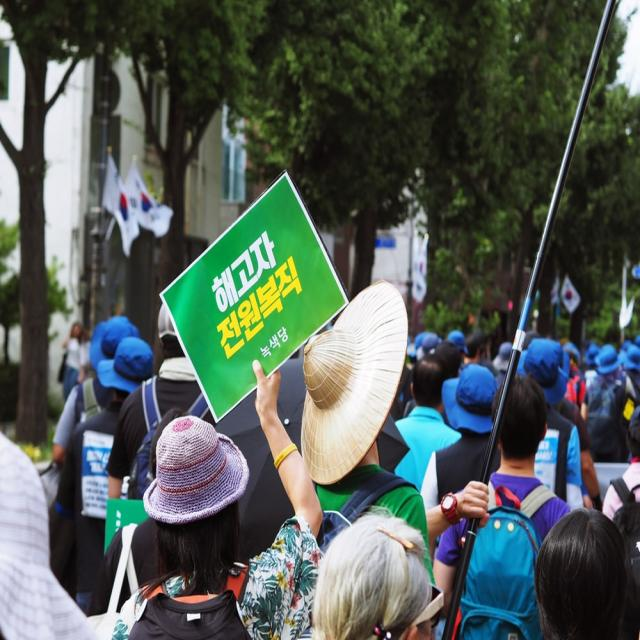hat: (141, 416, 251, 576), (97, 328, 157, 413)
head: (494, 376, 550, 474)
